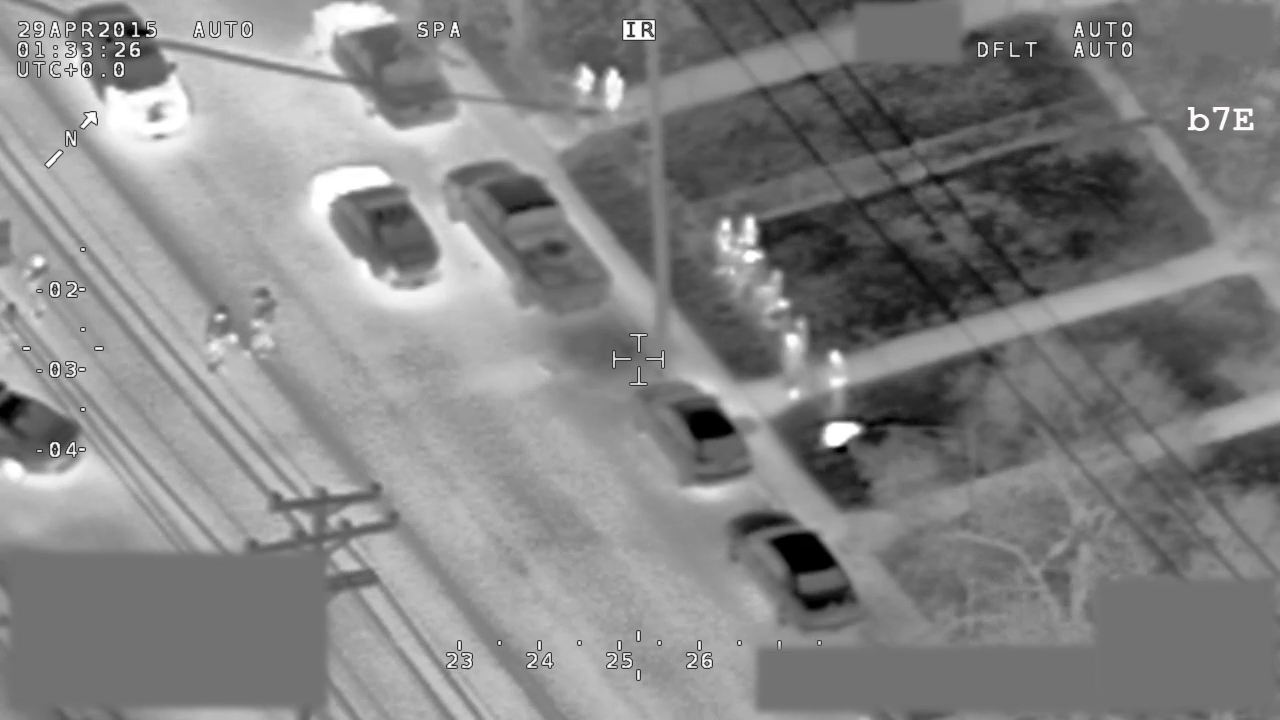vehicle: (439, 156, 621, 315), (311, 1, 466, 134), (65, 1, 195, 151), (306, 158, 449, 294), (717, 509, 868, 636), (635, 372, 762, 491), (1, 381, 89, 495)
